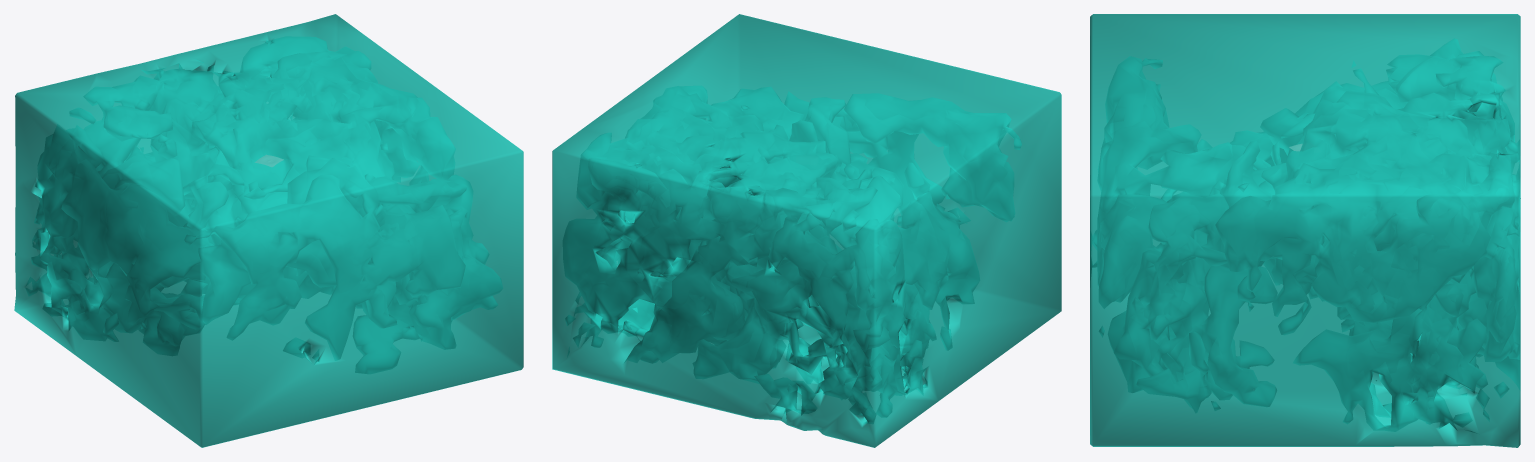
3 views of the same model, side by side, from view 1: azimuth 30°, elevation 25°; view 2: azimuth 150°, elevation 25°; view 3: azimuth 270°, elevation 25° (orthographic). The views are drawn at different scales.
Visible parts, largest first — view 1: Liquid_Domain; view 2: Liquid_Domain; view 3: Liquid_Domain.
Boxes of the visible parts, <box> form: Liquid_Domain: <box>14,14,523,447</box>; Liquid_Domain: <box>552,14,1061,447</box>; Liquid_Domain: <box>1090,14,1520,447</box>.
Size of the model in its own units: 391 by 254 by 391.
